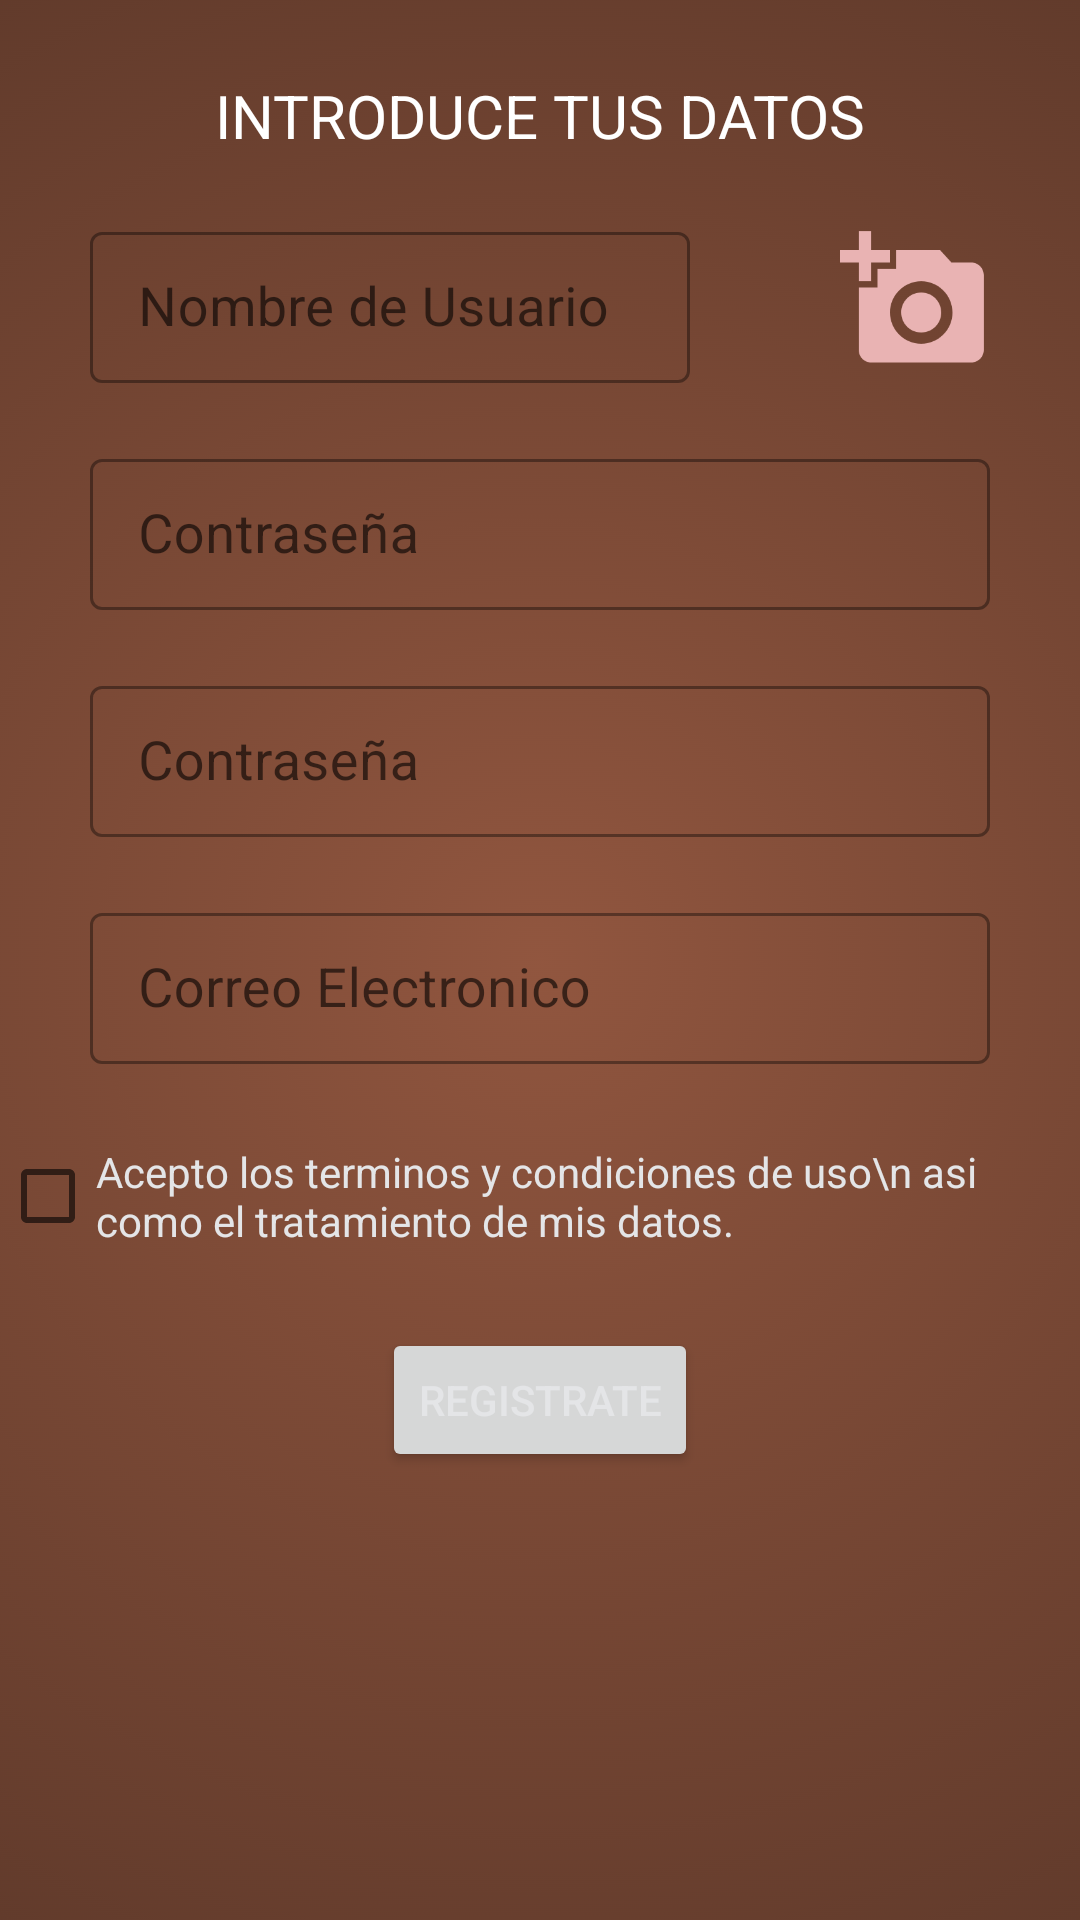

Icons on this 1080×1920 Android screen, each with the point to tap as [x,y]:
add photo: [912,297]
